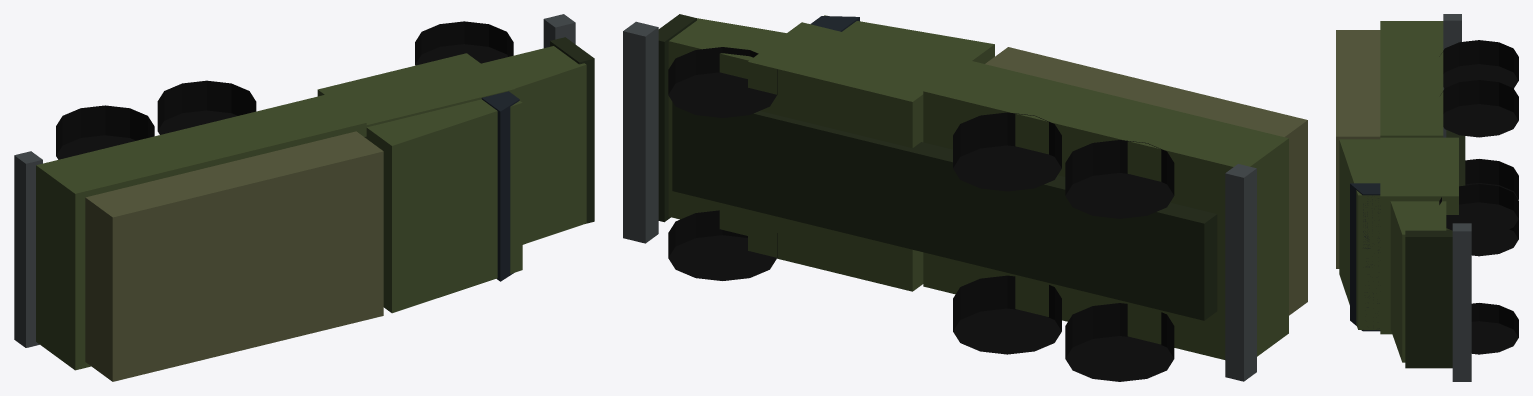
File: m939_style_5ton_6x6_cm.obj
3 views of the same model, side by side, from view 1: azimuth 30°, elevation 25°; view 2: azimuth 150°, elevation 25°; view 3: azimuth 270°, elevation 25° (orthographic). The views are drawn at different scales.
Visible parts, largest first — view 1: M939_Style_5_Ton_6x6; view 2: M939_Style_5_Ton_6x6; view 3: M939_Style_5_Ton_6x6.
Part boxes in pixels (x1,y1,x2,y2): M939_Style_5_Ton_6x6: (14, 14, 594, 381); M939_Style_5_Ton_6x6: (623, 14, 1307, 381); M939_Style_5_Ton_6x6: (1336, 14, 1518, 381).
Size of the model in its own units: 820 by 264 by 290.
